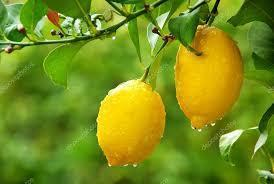lemon: (175, 25, 244, 129), (97, 80, 165, 166)
